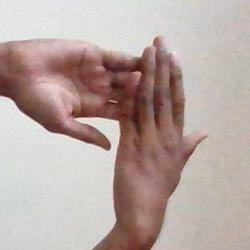H: (2, 8, 250, 250)
